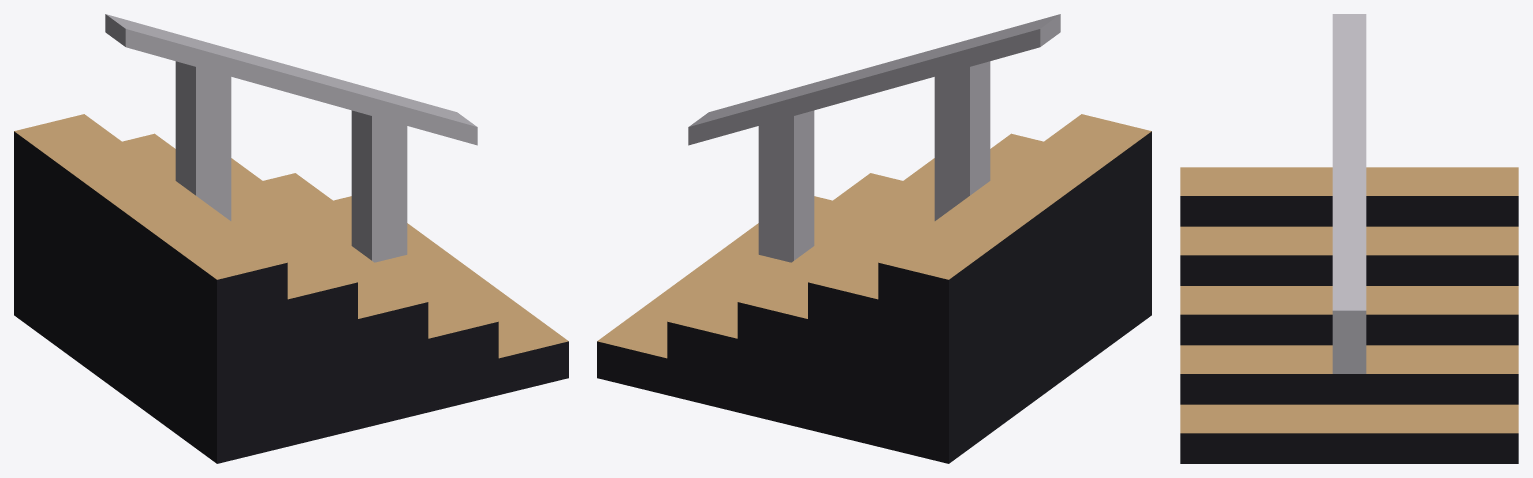
The model's file is Rail_Stairs_Tall.fbx.
3 views of the same model, side by side, from view 1: azimuth 30°, elevation 25°; view 2: azimuth 150°, elevation 25°; view 3: azimuth 270°, elevation 25° (orthographic). The views are drawn at different scales.
Parts seen in each view (by area): view 1: Rail_Stairs_Tall; view 2: Rail_Stairs_Tall; view 3: Rail_Stairs_Tall.
Part boxes in pixels (x1,y1,x2,y2): Rail_Stairs_Tall: (14, 14, 568, 463); Rail_Stairs_Tall: (597, 14, 1151, 463); Rail_Stairs_Tall: (1180, 14, 1518, 463).
Bounding box in the file's own units: 10 × 10 × 10.
